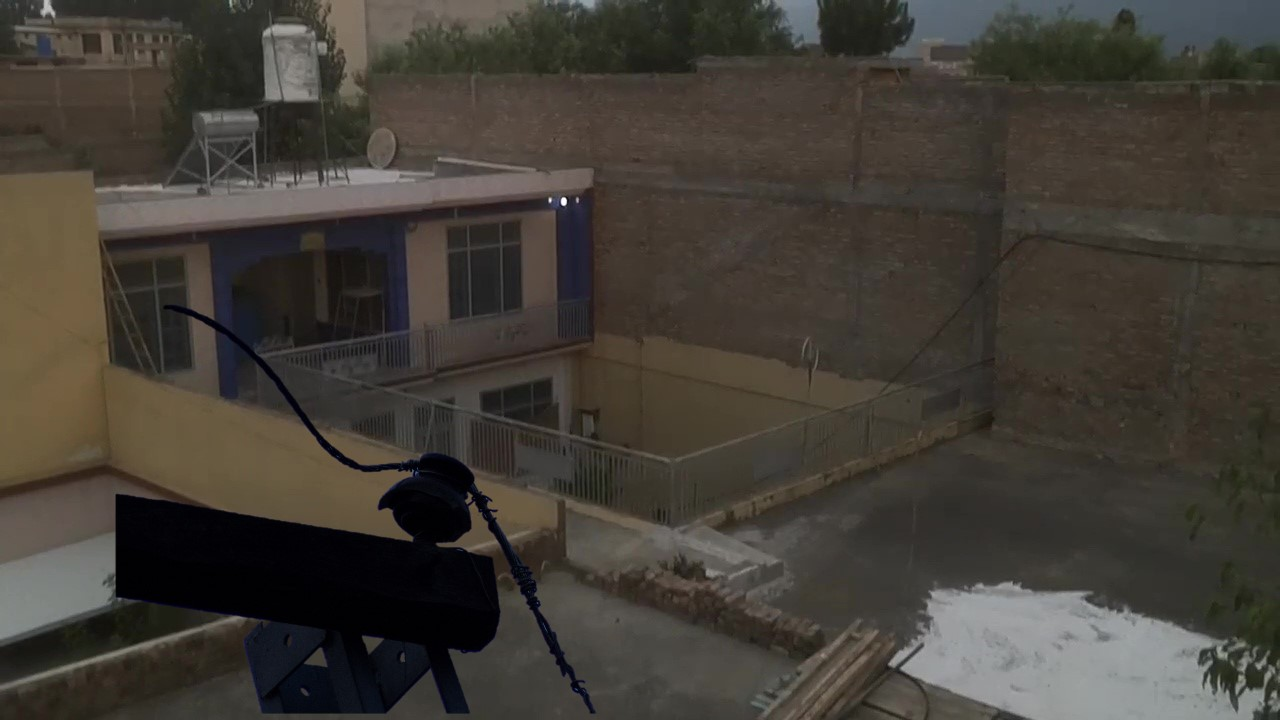defect_pin: (374, 447, 485, 548)
